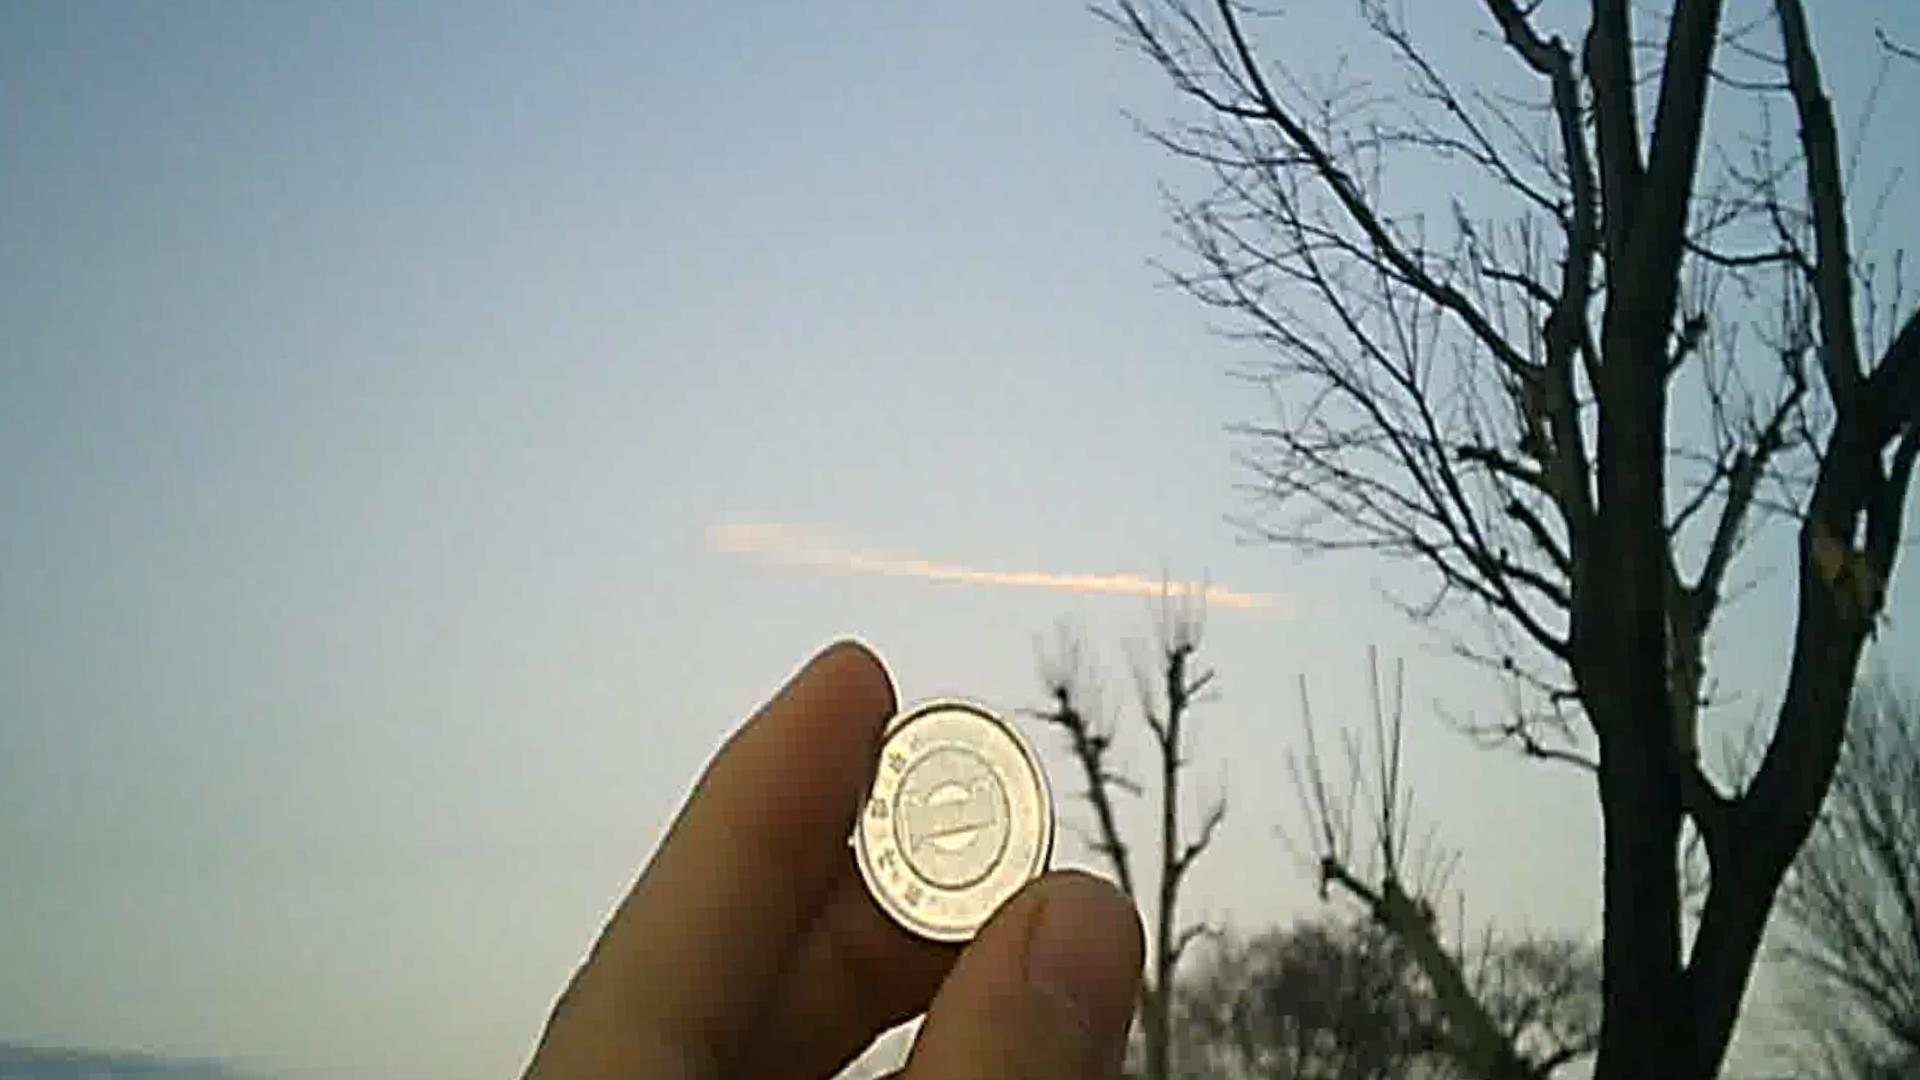1 Yen: (847, 691, 1060, 945)
